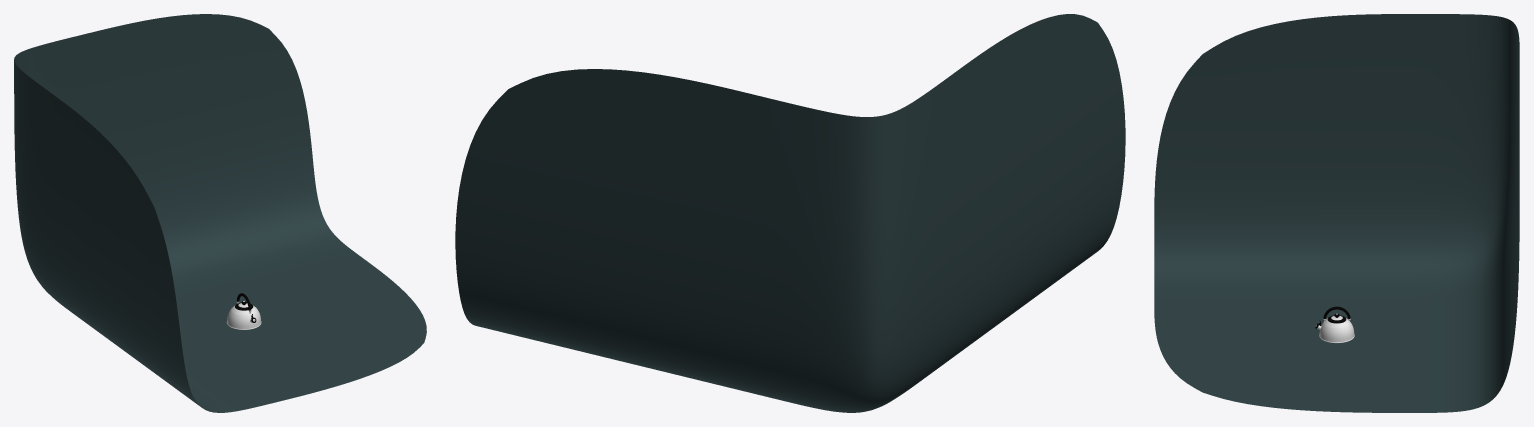
The picture shows the model from 3 angles, left to right: view 1: azimuth 30°, elevation 25°; view 2: azimuth 150°, elevation 25°; view 3: azimuth 270°, elevation 25°; orthographic projection. The views are drawn at different scales.
Visible parts, largest first — view 1: Plane, Sphere; view 2: Plane; view 3: Plane, Sphere.
Boxes of the visible parts, <box> form: Plane: <box>14,14,426,412</box>; Sphere: <box>226,293,261,329</box>; Plane: <box>455,14,1125,412</box>; Plane: <box>1154,14,1519,412</box>; Sphere: <box>1319,306,1354,343</box>.
Size of the model in its own units: 1917 by 1415 by 1917.
